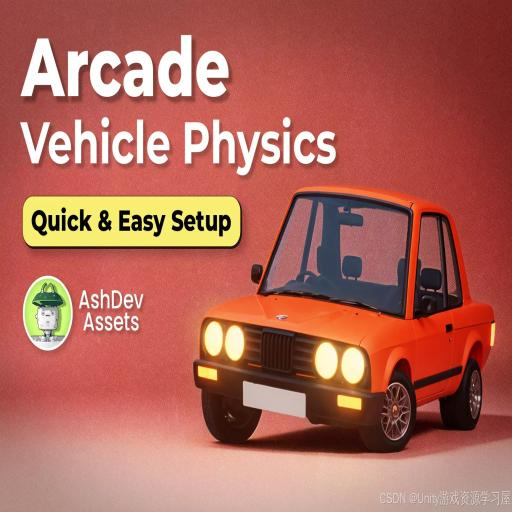hatchback: (194, 186, 495, 451)
